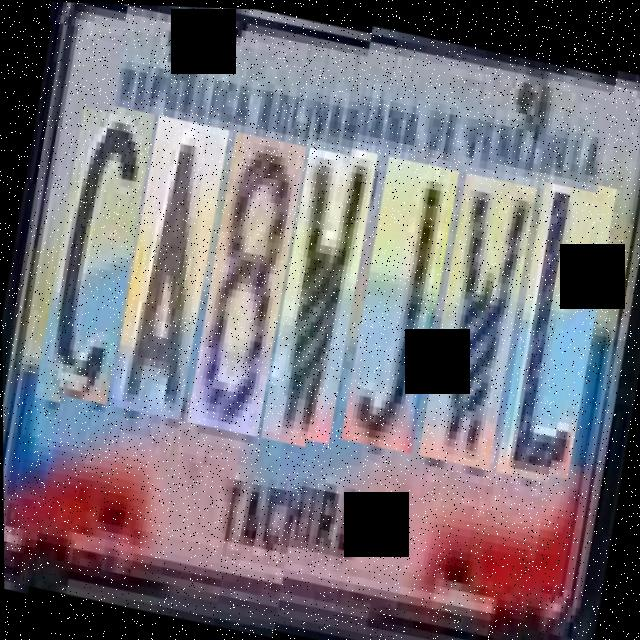8: (185, 120, 309, 429)
A: (108, 104, 231, 413)
C: (34, 88, 158, 398)
J: (339, 151, 460, 452)
L: (493, 175, 617, 484)
W: (259, 135, 380, 443), (415, 167, 537, 468)
